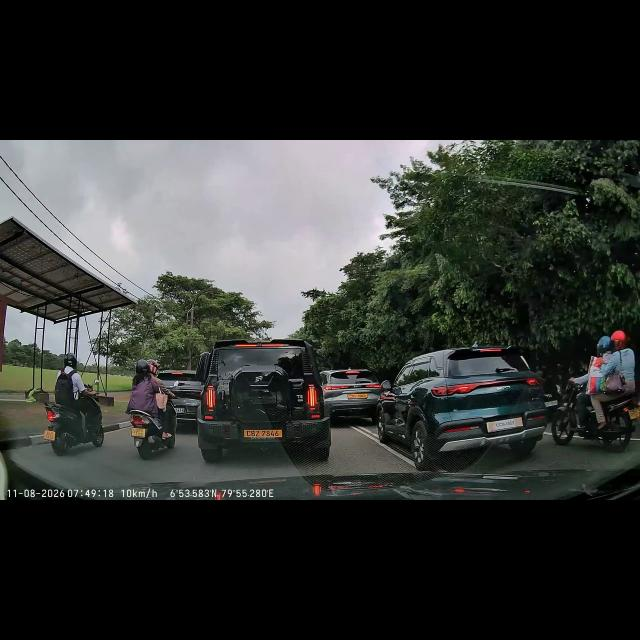car: (404, 352, 534, 453), (210, 341, 322, 451), (328, 370, 382, 418), (174, 374, 200, 420)
double_solid_line: (358, 426, 382, 454)
helmet: (608, 331, 630, 351), (597, 338, 611, 354), (63, 353, 77, 367), (136, 359, 148, 373), (149, 360, 159, 374)
motorcycle: (43, 402, 105, 452), (563, 398, 629, 442), (131, 408, 177, 450)
number_plate: (484, 420, 530, 434), (240, 430, 282, 442), (344, 391, 370, 402), (129, 426, 145, 438), (42, 430, 54, 440)
person: (62, 360, 98, 434), (614, 350, 636, 400), (593, 339, 609, 391), (136, 366, 152, 410), (152, 378, 166, 412)
